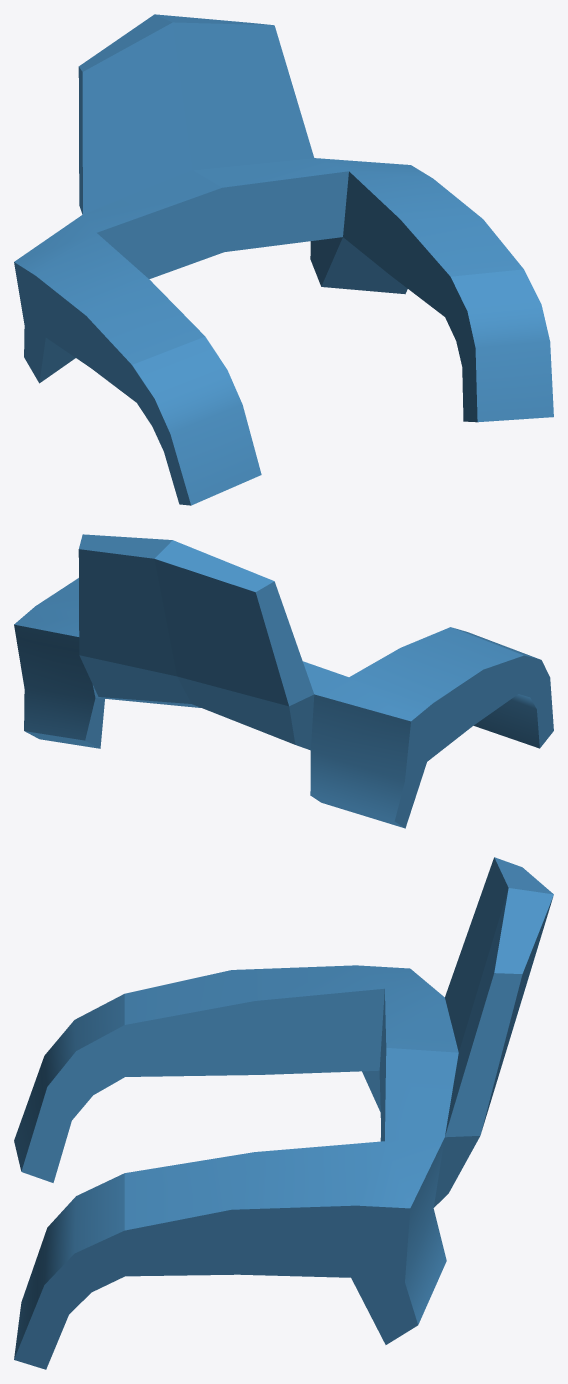
The model's file is Driver_Safety.fbx.
3 renders of one model, top to bottom at view 1: azimuth 30°, elevation 25°; view 2: azimuth 150°, elevation 25°; view 3: azimuth 270°, elevation 25°, orthographic. The views are drawn at different scales.
Parts seen in each view (by area): view 1: Driver_Safety; view 2: Driver_Safety; view 3: Driver_Safety.
Part boxes in pixels (left/top/right/bottom): Driver_Safety: left=14, top=14, right=553, bottom=505; Driver_Safety: left=14, top=534, right=553, bottom=828; Driver_Safety: left=14, top=857, right=553, bottom=1369.
Size of the model in its own units: 29.75 by 21.54 by 28.25.
